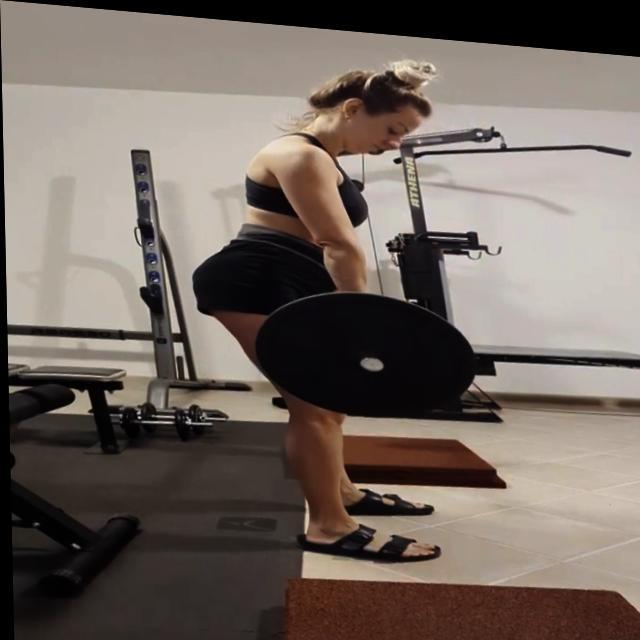barbell: (250, 277, 480, 425)
